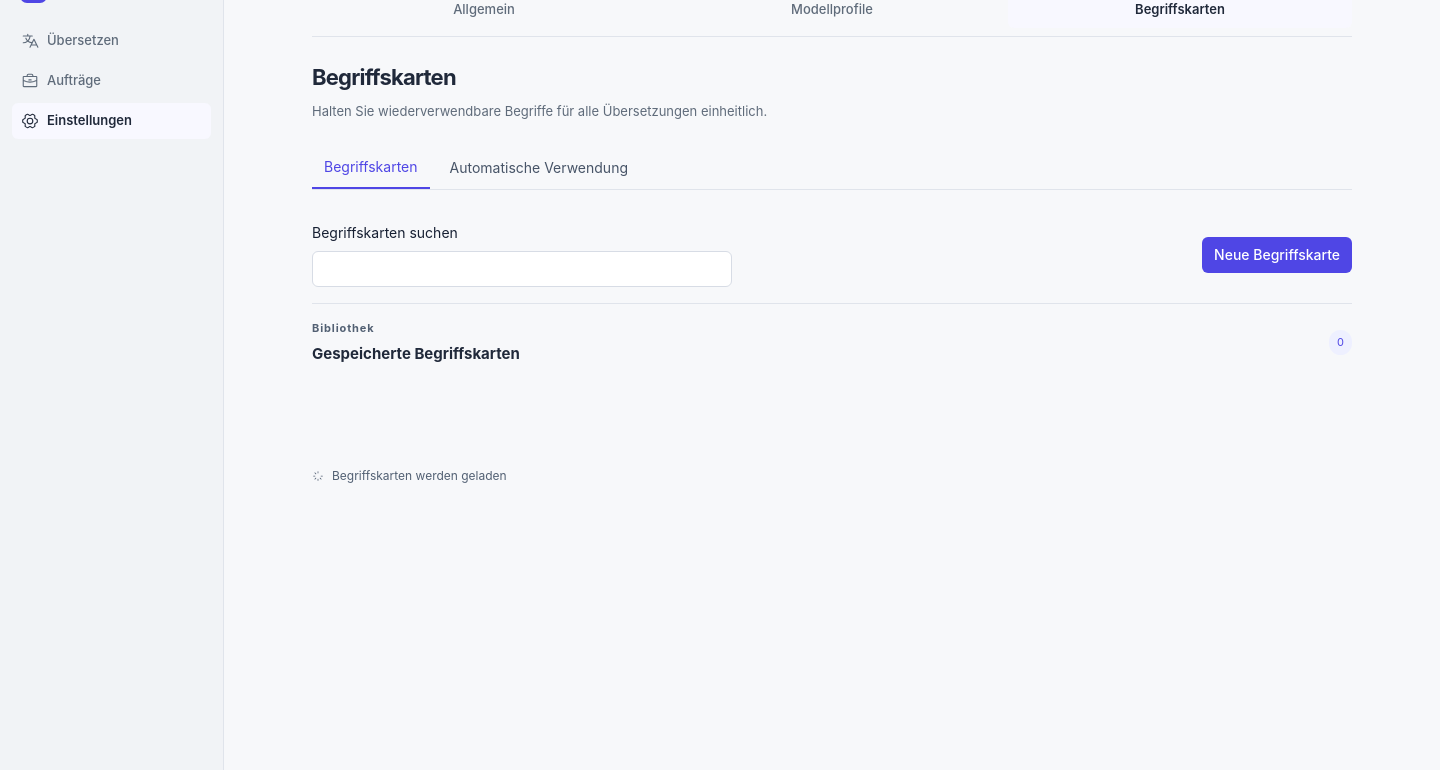
Test: product shell › localizes Term map guidance for de
The image size is (1440, 770).
Click the button "Neue Begriffskarte".
click(1277, 255)  # box [1202,237,1352,273]
(page scrolled)
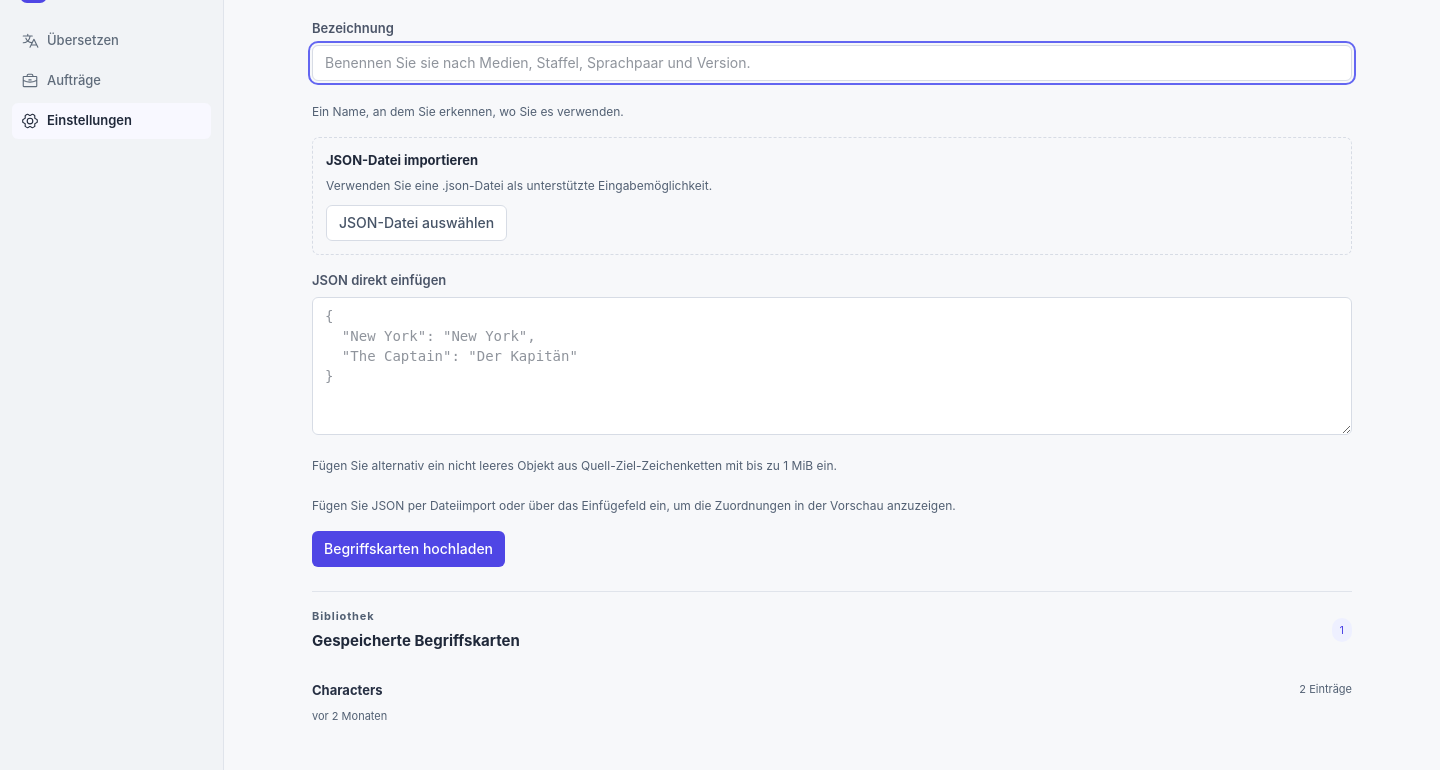
Check: the text "Ein Name, an dem Sie erkennen, wo Sie es verwenden." is shown, box [312,104,624,119]
